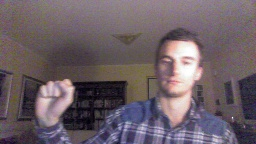Pugno: (31, 77, 76, 126)
